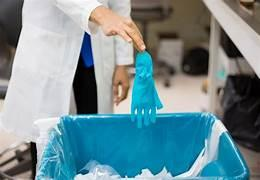Glove: (131, 51, 162, 127)
